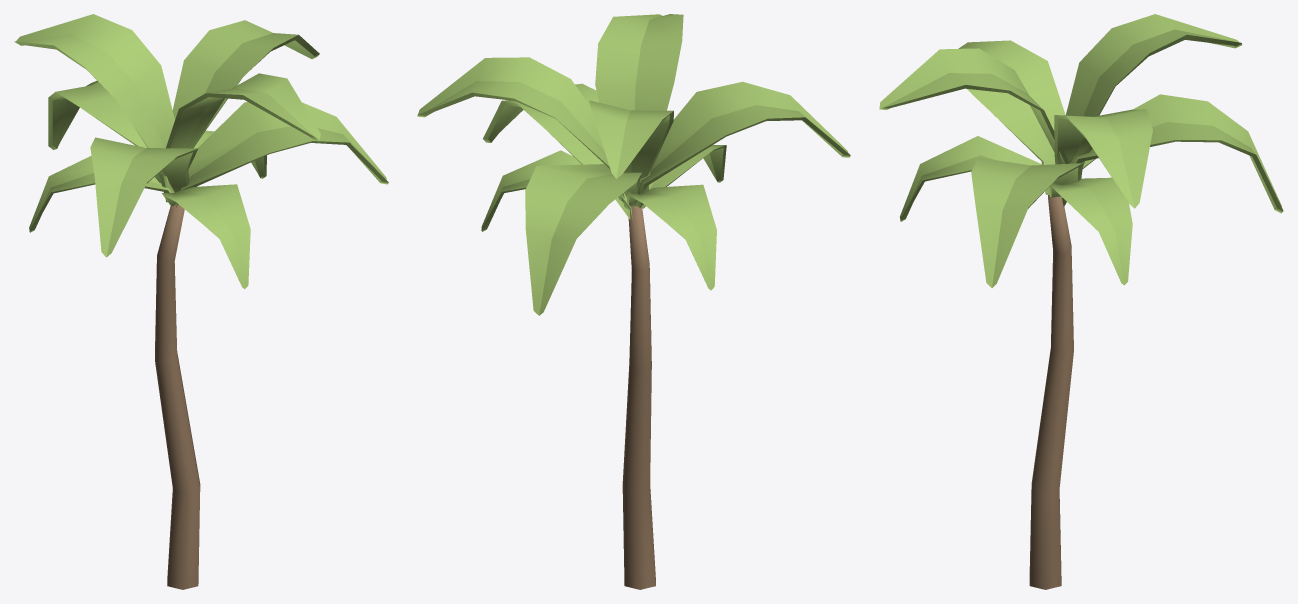
The model's file is PalmTree.gltf.
The picture shows the model from 3 angles, left to right: view 1: azimuth 30°, elevation 25°; view 2: azimuth 150°, elevation 25°; view 3: azimuth 270°, elevation 25°; orthographic projection. The views are drawn at different scales.
Visible parts, largest first — view 1: PalmTree; view 2: PalmTree; view 3: PalmTree.
Part boxes in pixels (x1,y1,x2,y2): PalmTree: (14,14,388,589); PalmTree: (417,14,850,589); PalmTree: (879,14,1283,589).
Size of the model in its own units: 3.87 by 5.95 by 4.06.
